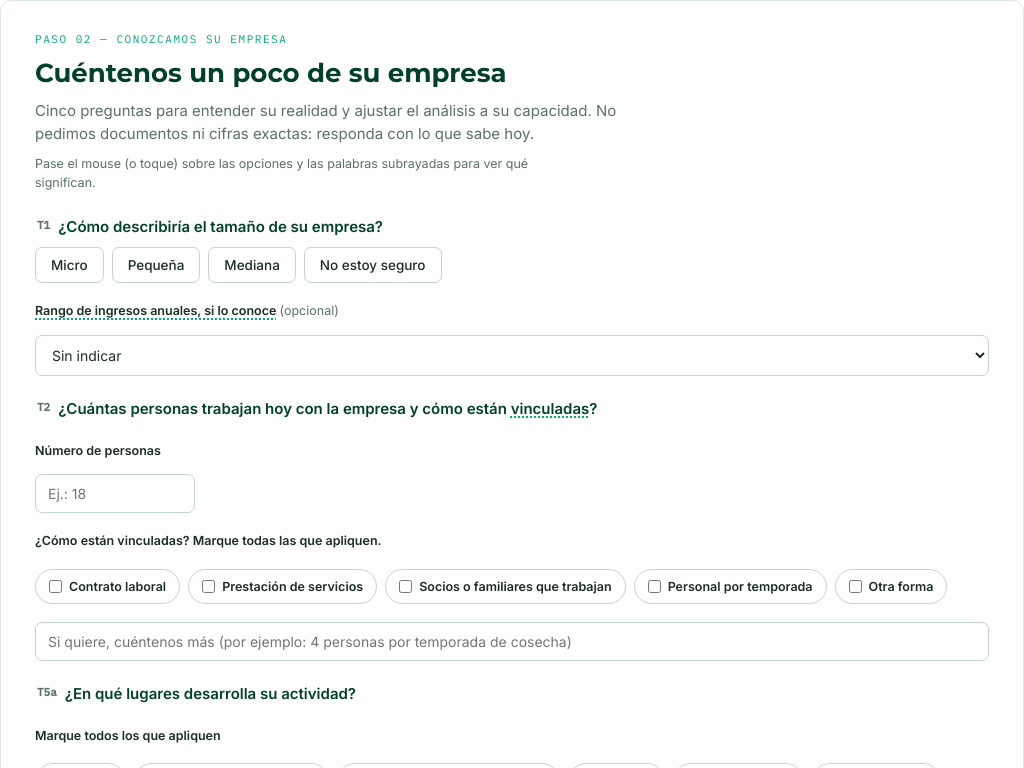
Scenario: explicaciones al pasar el mouse › Escape cierra el globo y los botones de opción también explican
Hover over the button "Micro".
mouse_move(69, 266)  # box [35,248,104,284]
Wait 200 ms
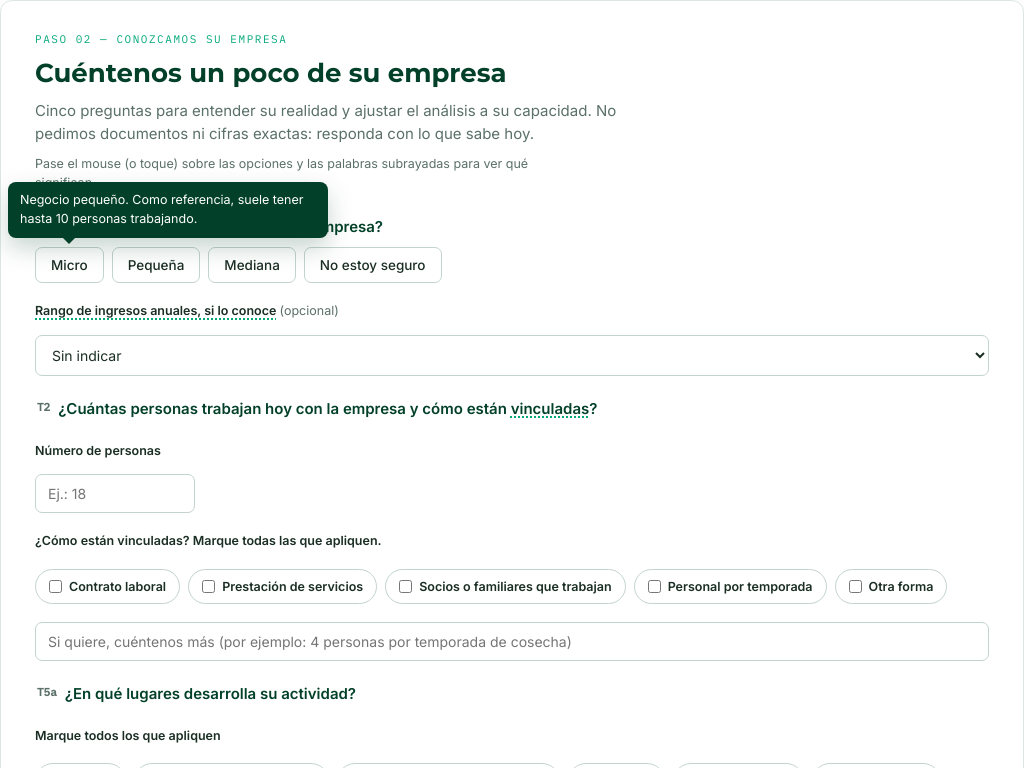
Expected: the text with class "ayuda-globo" is shown, [8,182,328,238]
Press Escape
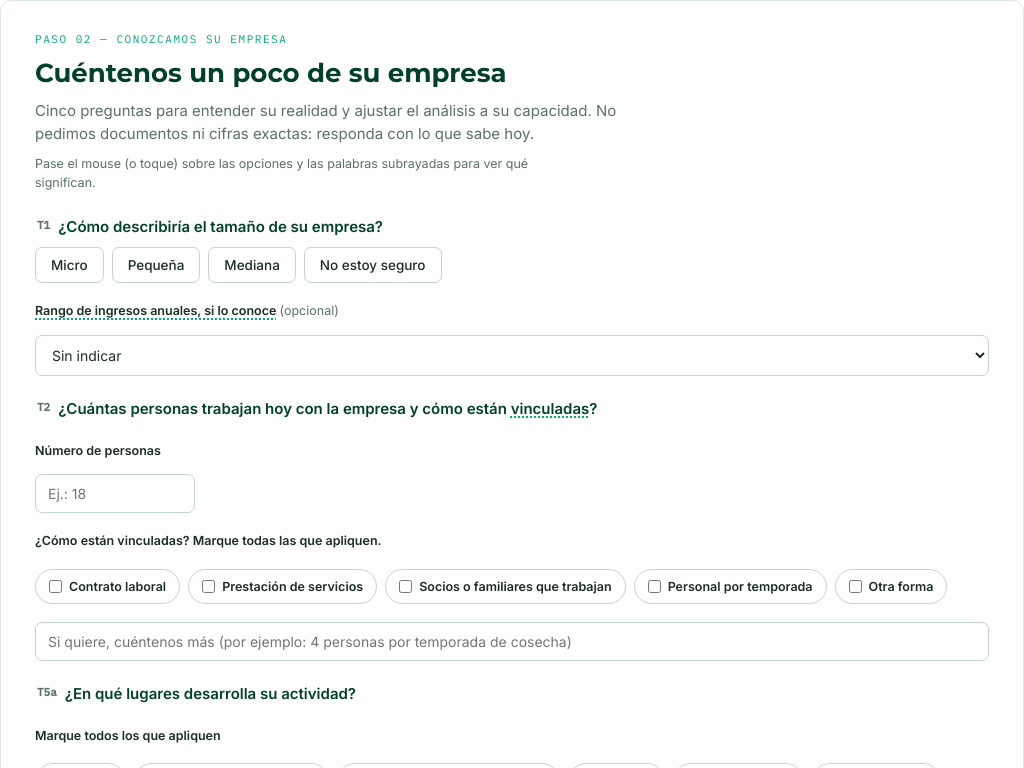
Expected: the text with class "ayuda-globo" is gone
